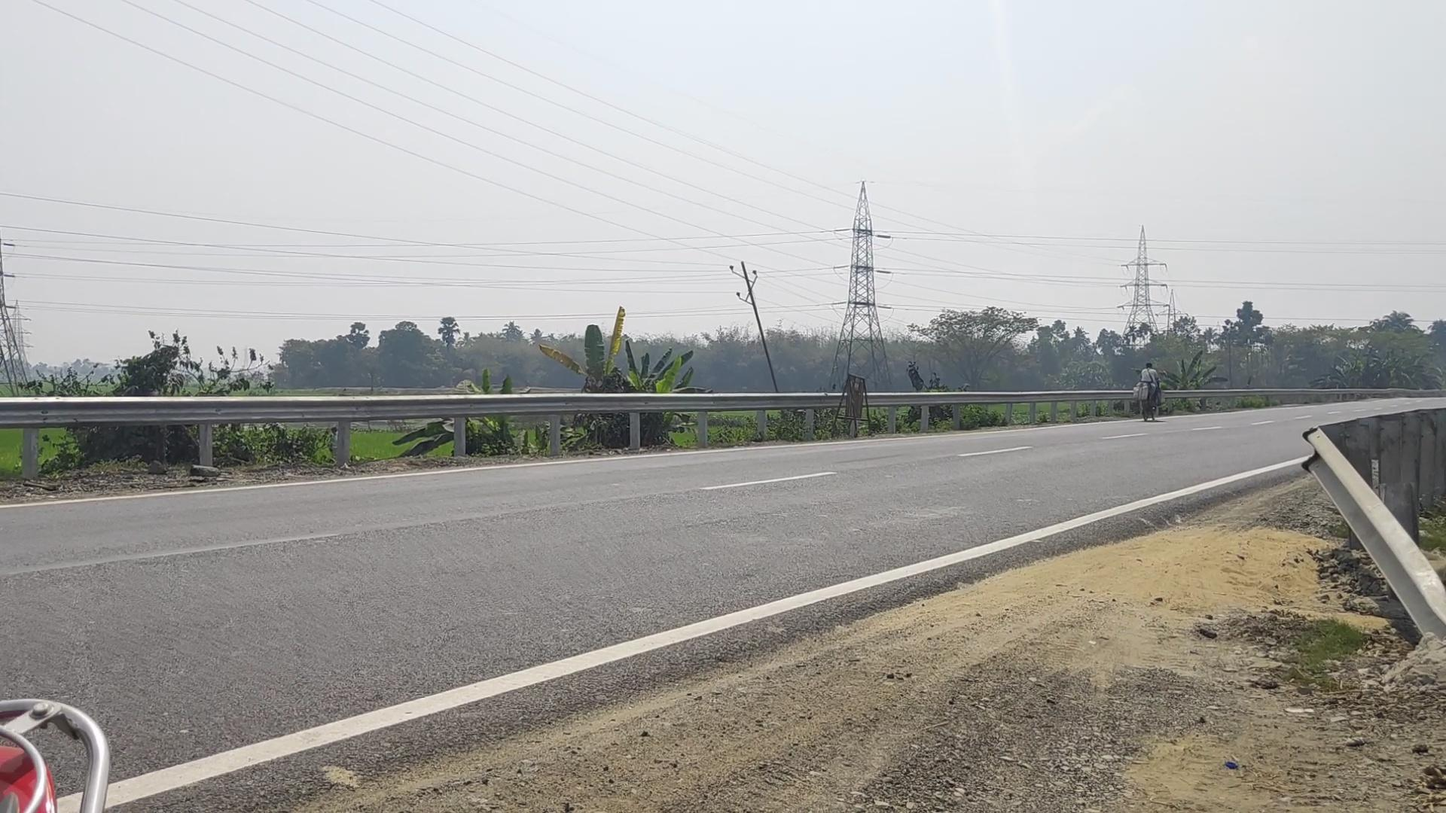bike: (1135, 363, 1163, 422)
